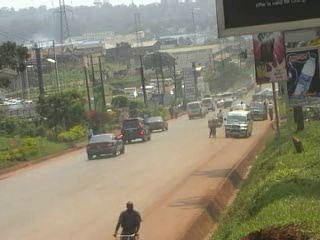Car: (85, 131, 127, 160), (119, 114, 152, 143), (146, 113, 170, 133), (222, 97, 235, 109)
Motorcycle: (213, 112, 224, 129)
